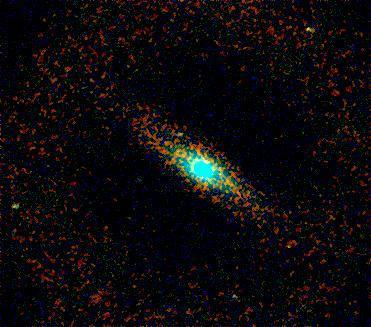star: (273, 235, 303, 265)
